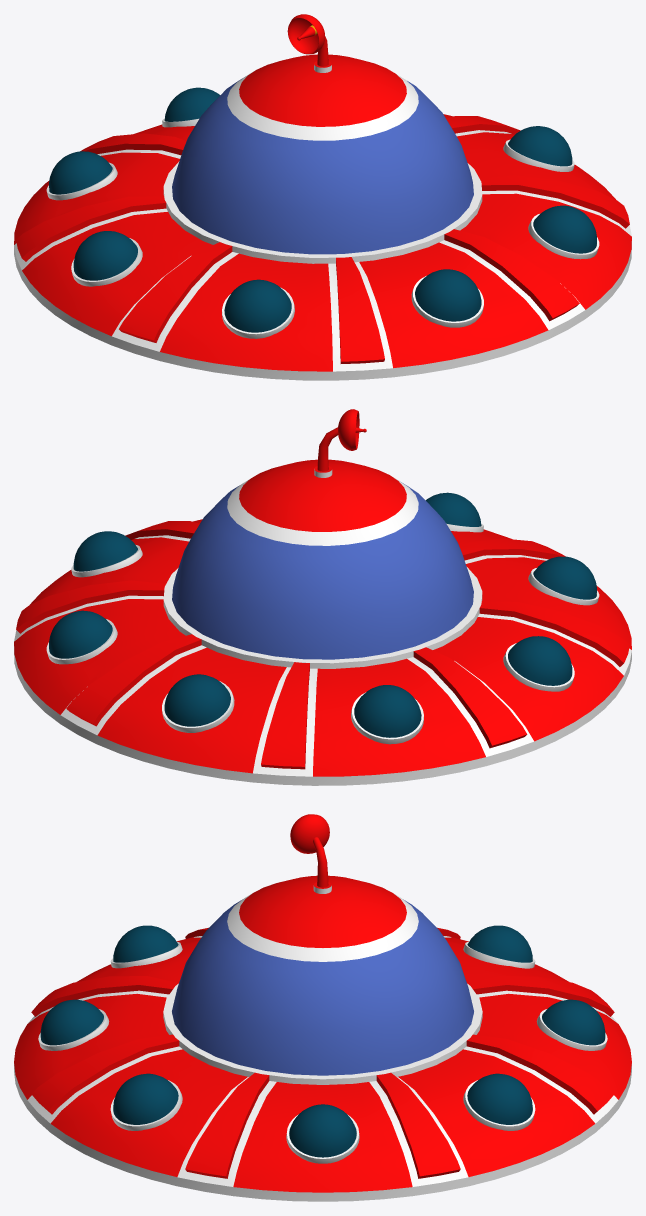
Rendered from retroufo_red.dae.
3 renders of one model, top to bottom at view 1: azimuth 30°, elevation 25°; view 2: azimuth 150°, elevation 25°; view 3: azimuth 270°, elevation 25°, orthographic.
Parts seen in each view (by area): view 1: Cylinder02 (×2), Sphere09 (×3), Sphere03 (×2), Sphere05 (×2), Sphere01 (×2), Sphere07 (×2), Sphere08 (×2), Sphere02 (×2), Sphere06, Sphere24; view 2: Cylinder02 (×2), Sphere09 (×3), Sphere08 (×2), Sphere06 (×2), Sphere01 (×2), Sphere04 (×2), Sphere03 (×2), Sphere02 (×2), Sphere05, Sphere24; view 3: Cylinder02 (×2), Sphere09 (×3), Sphere02 (×2), Sphere04 (×2), Sphere07 (×2), Sphere05 (×2), Sphere06 (×2), Sphere03, Sphere08, Sphere24, Cylinder01.
Boxes of the visible parts, x1,y1,x2,y2 form: Cylinder02 (×2): (14,114,631,380); Sphere09 (×3): (163,54,482,263); Sphere03 (×2): (222,279,294,338); Sphere05 (×2): (411,269,483,327); Sphere01 (×2): (71,231,142,286); Sphere07 (×2): (528,205,599,259); Sphere08 (×2): (46,151,117,200); Sphere02 (×2): (503,126,574,171); Sphere06: (164,87,220,121); Sphere24: (287,14,325,54); Cylinder02 (×2): (14,519,631,785); Sphere09 (×3): (163,459,482,668); Sphere08 (×2): (351,685,423,744); Sphere06 (×2): (162,674,234,732); Sphere01 (×2): (503,636,574,691); Sphere04 (×2): (46,610,117,664); Sphere03 (×2): (528,556,599,605); Sphere02 (×2): (71,531,142,577); Sphere05: (426,492,481,526); Sphere24: (338,409,359,450); Cylinder02 (×2): (14,927,631,1201); Sphere09 (×3): (163,875,482,1084); Sphere02 (×2): (286,1104,359,1163); Sphere04 (×2): (463,1073,535,1130); Sphere07 (×2): (110,1073,182,1130); Sphere05 (×2): (38,999,109,1050); Sphere06 (×2): (536,999,607,1050); Sphere03: (113,925,178,962); Sphere08: (467,925,532,962); Sphere24: (290,814,329,853); Cylinder01: (313,837,331,888).
Size of the model in its own units: 14.63 by 8.27 by 14.63.
